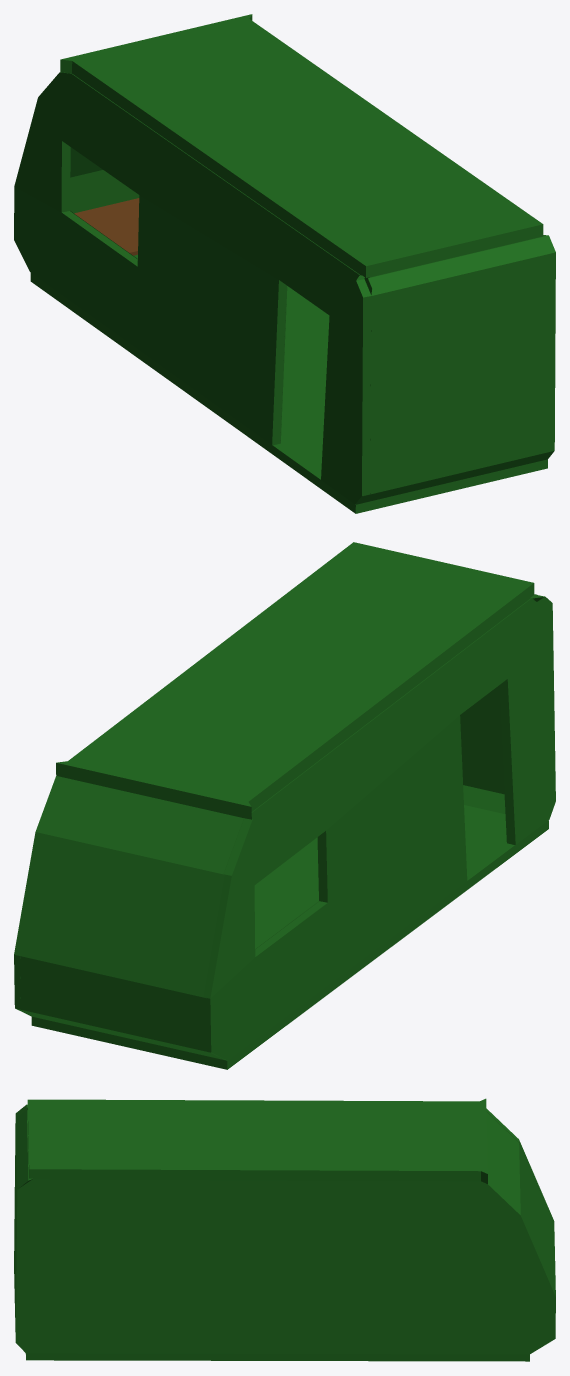
Rendered from CaravanDemo2.fbx.
The picture shows the model from 3 angles, top to bottom: view 1: azimuth 30°, elevation 25°; view 2: azimuth 150°, elevation 25°; view 3: azimuth 270°, elevation 25°; orthographic projection. The views are drawn at different scales.
Parts seen in each view (by area): view 1: Caravan; view 2: Caravan; view 3: Caravan.
Part boxes in pixels (left/top/right/bottom): Caravan: left=14, top=14, right=555, bottom=513; Caravan: left=14, top=542, right=555, bottom=1069; Caravan: left=14, top=1098, right=555, bottom=1361.
Bounding box in the file's own units: 262 × 311 × 788.
